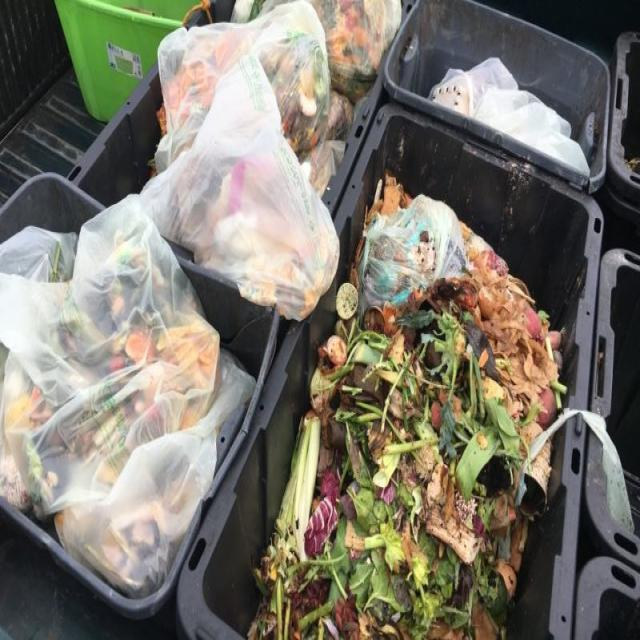Organic: (382, 183, 554, 640), (314, 357, 375, 640), (267, 472, 306, 640)
